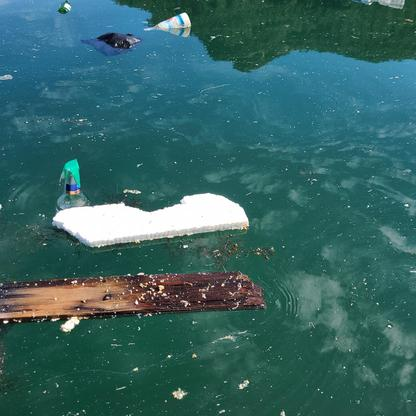foam: (52, 190, 250, 247)
